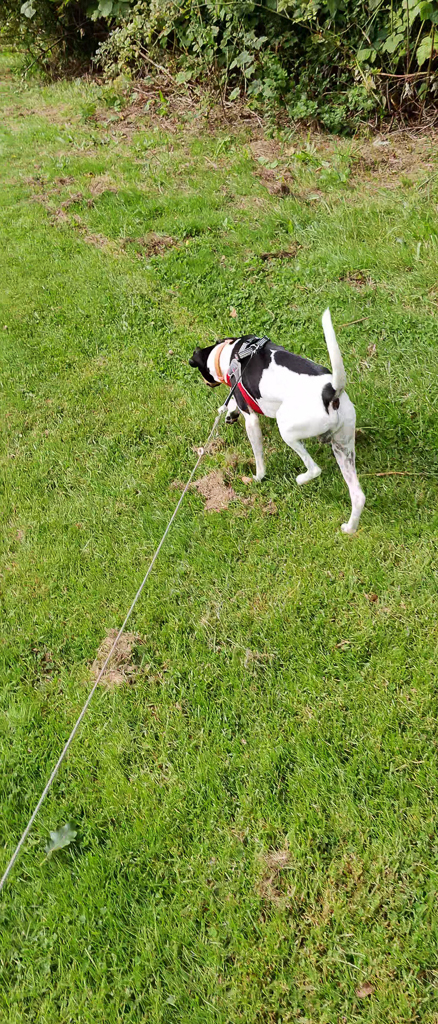Dog: (178, 298, 376, 541)
